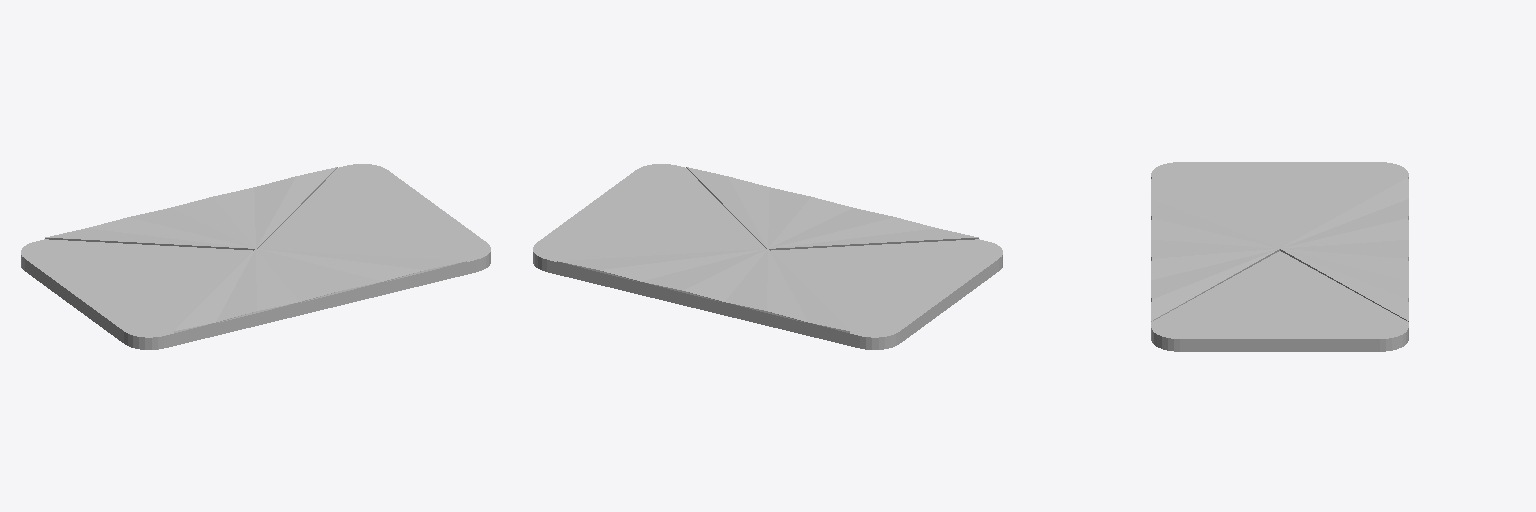
The model's file is card.obj.
3 views of the same model, side by side, from view 1: azimuth 30°, elevation 25°; view 2: azimuth 150°, elevation 25°; view 3: azimuth 270°, elevation 25° (orthographic).
Parts seen in each view (by area): view 1: Cube; view 2: Cube; view 3: Cube.
Boxes of the visible parts, x1=… form: Cube: x1=21, y1=164, x2=490, y2=349; Cube: x1=533, y1=164, x2=1002, y2=349; Cube: x1=1151, y1=162, x2=1408, y2=351.
Size of the model in its own units: 1.83 by 0.0698 by 1.12.